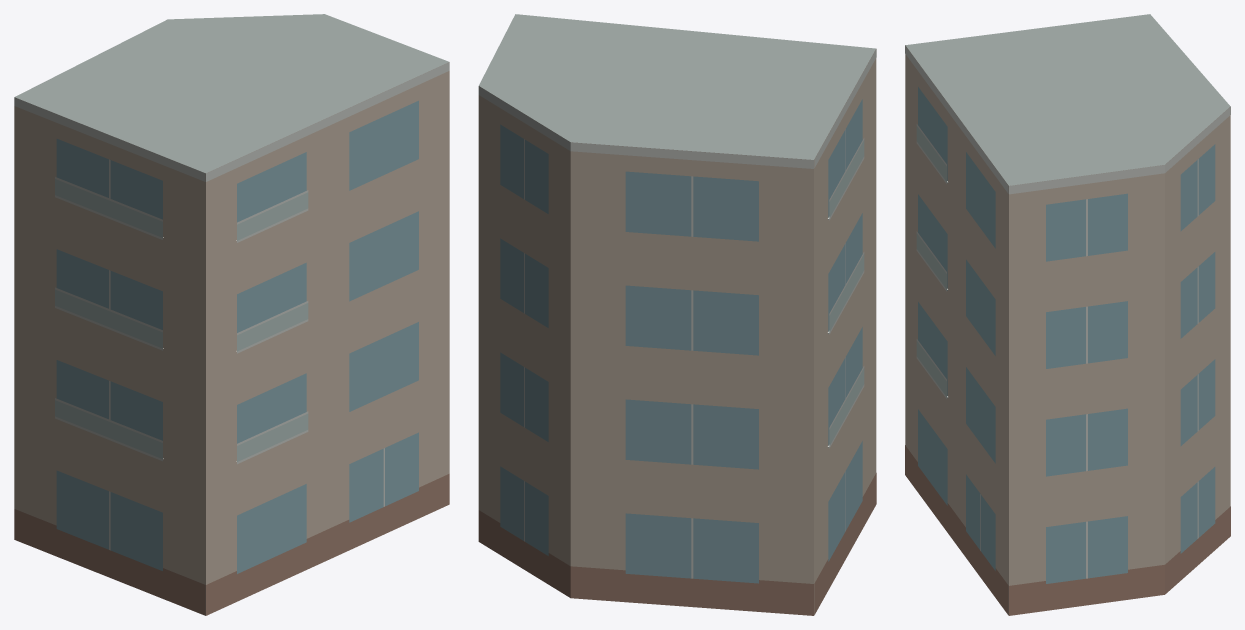
Rendered from survey-upis-32622204.glb.
3 renders of one model, left to right at view 1: azimuth 30°, elevation 25°; view 2: azimuth 150°, elevation 25°; view 3: azimuth 270°, elevation 25°, orthographic. The views are drawn at different scales.
Parts seen in each view (by area): view 1: survey-upis-32622204.tmp; view 2: survey-upis-32622204.tmp; view 3: survey-upis-32622204.tmp.
Boxes of the visible parts, x1,y1,x2,y2 form: survey-upis-32622204.tmp: (14,14,449,615); survey-upis-32622204.tmp: (478,14,876,615); survey-upis-32622204.tmp: (905,14,1230,615).
Size of the model in its own units: 10.56 by 12.3 by 8.45.
